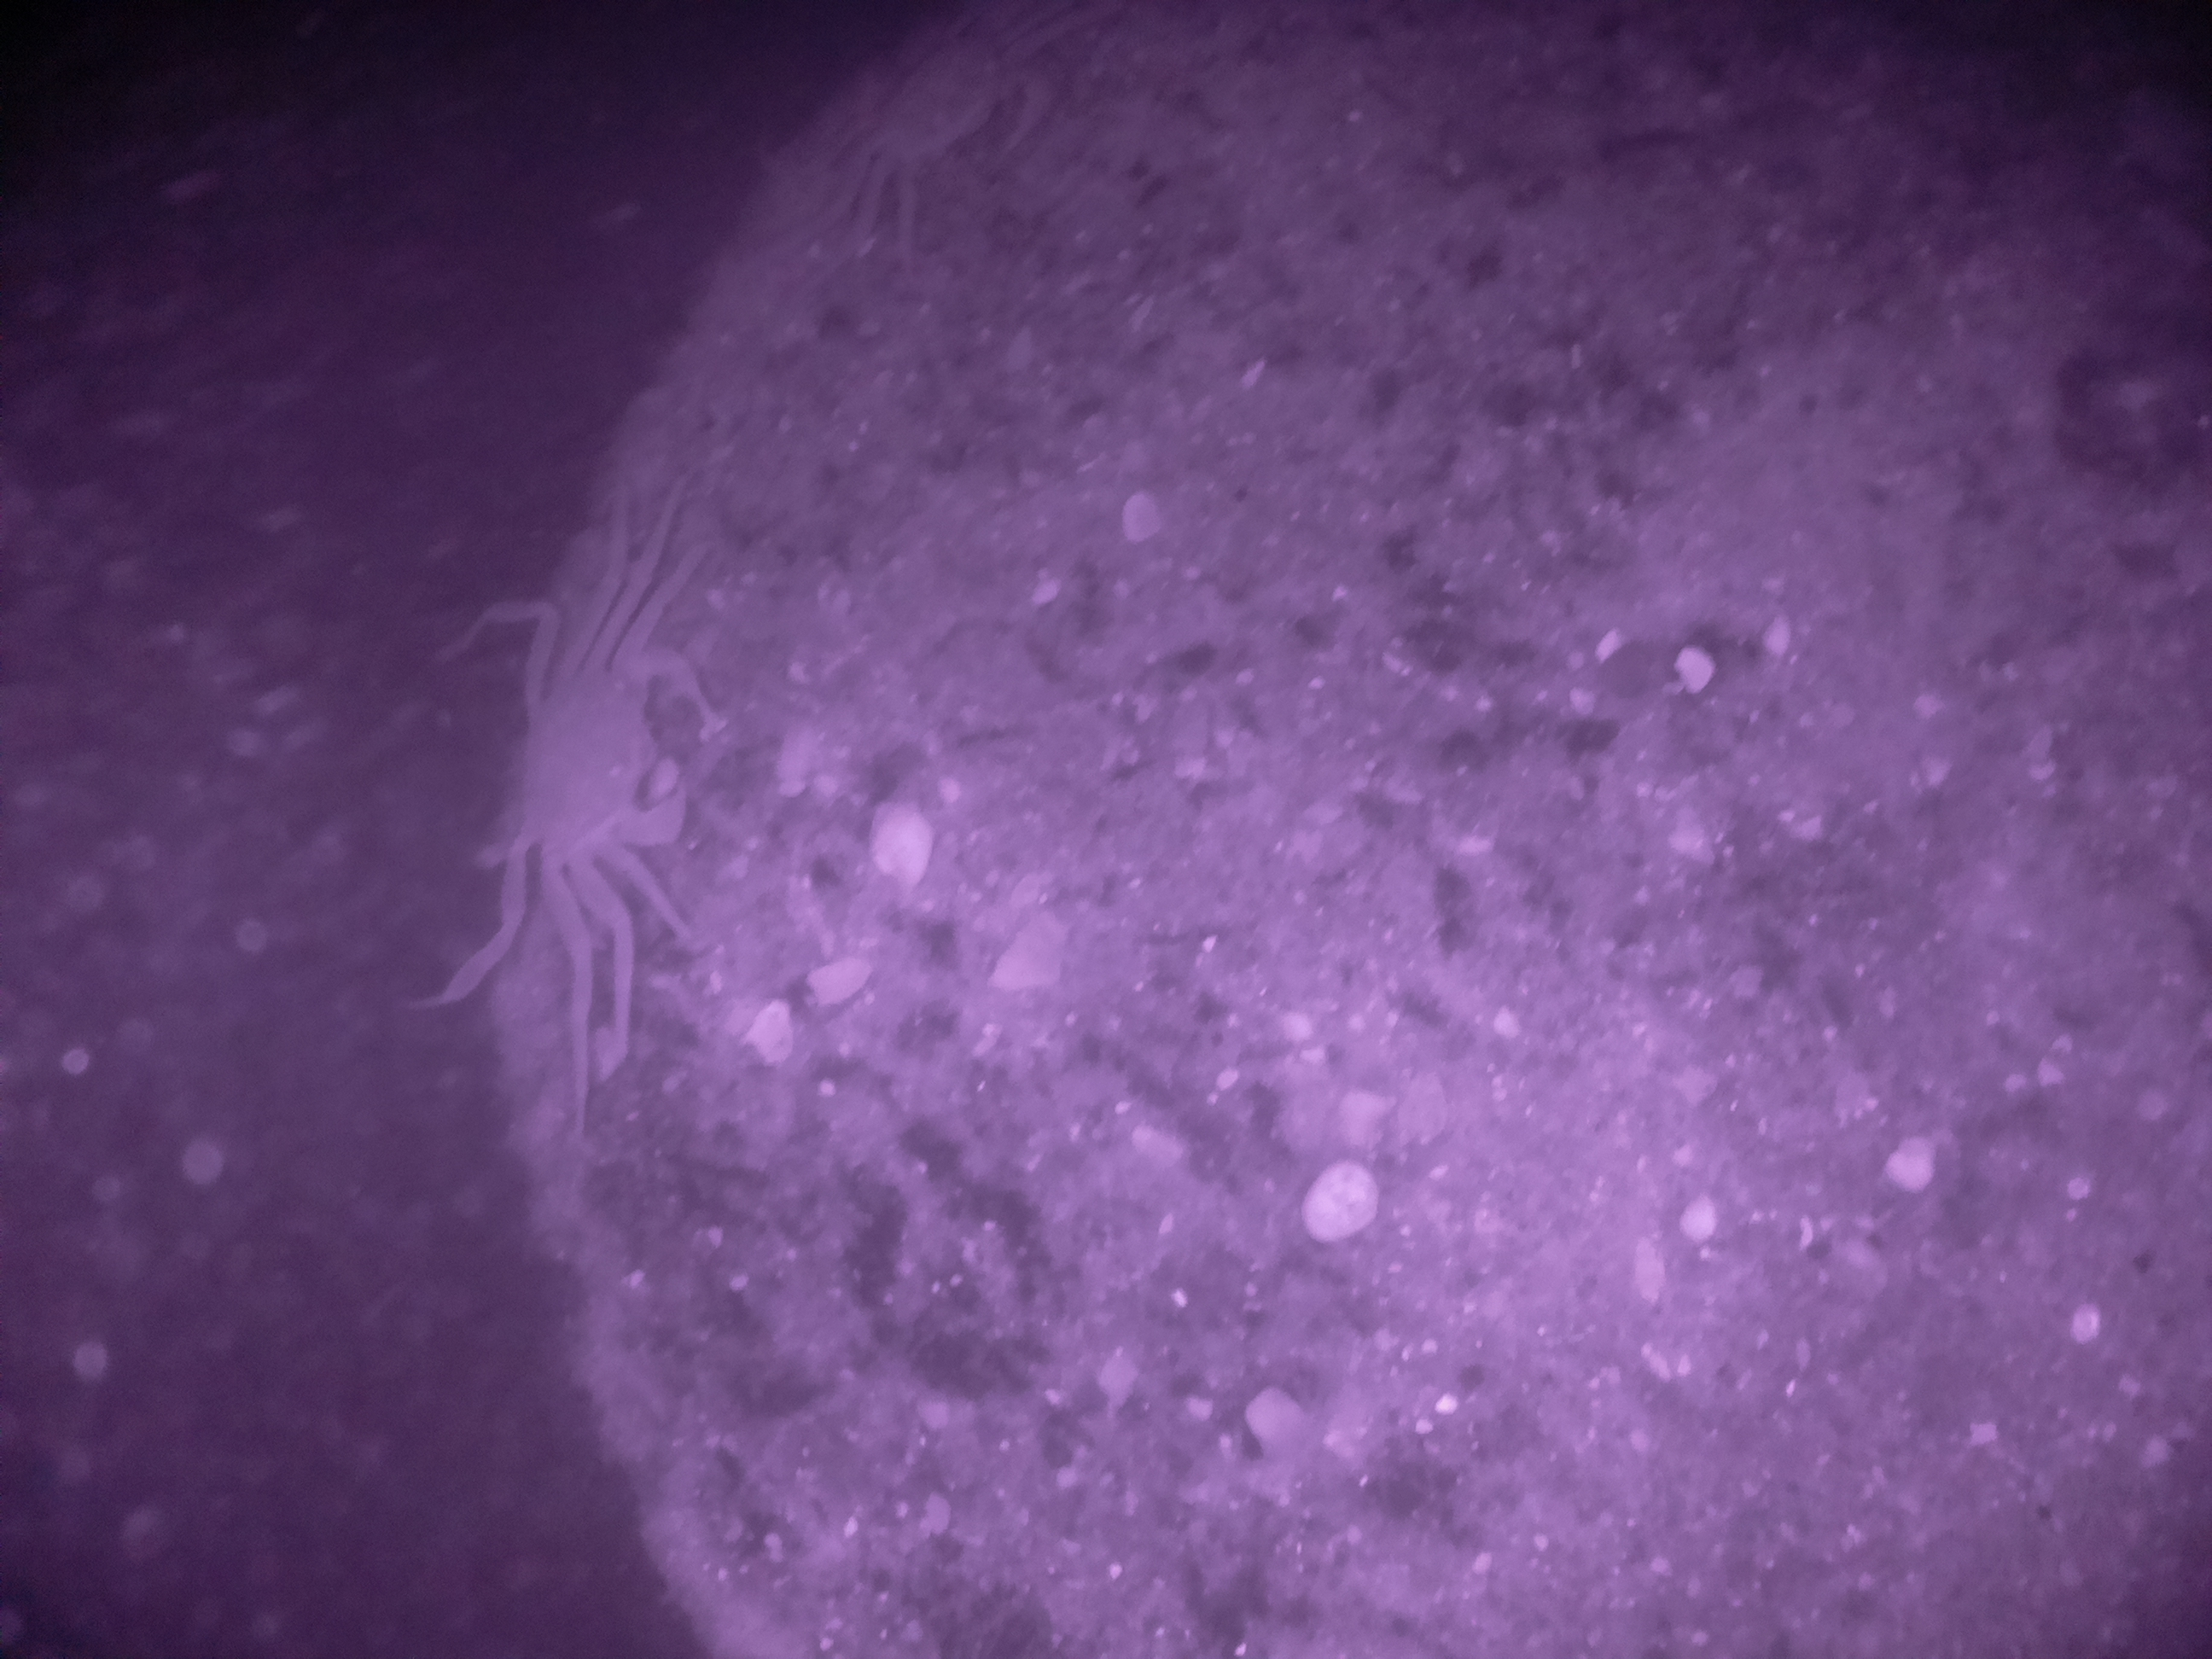Crab: (416, 584, 810, 965)
